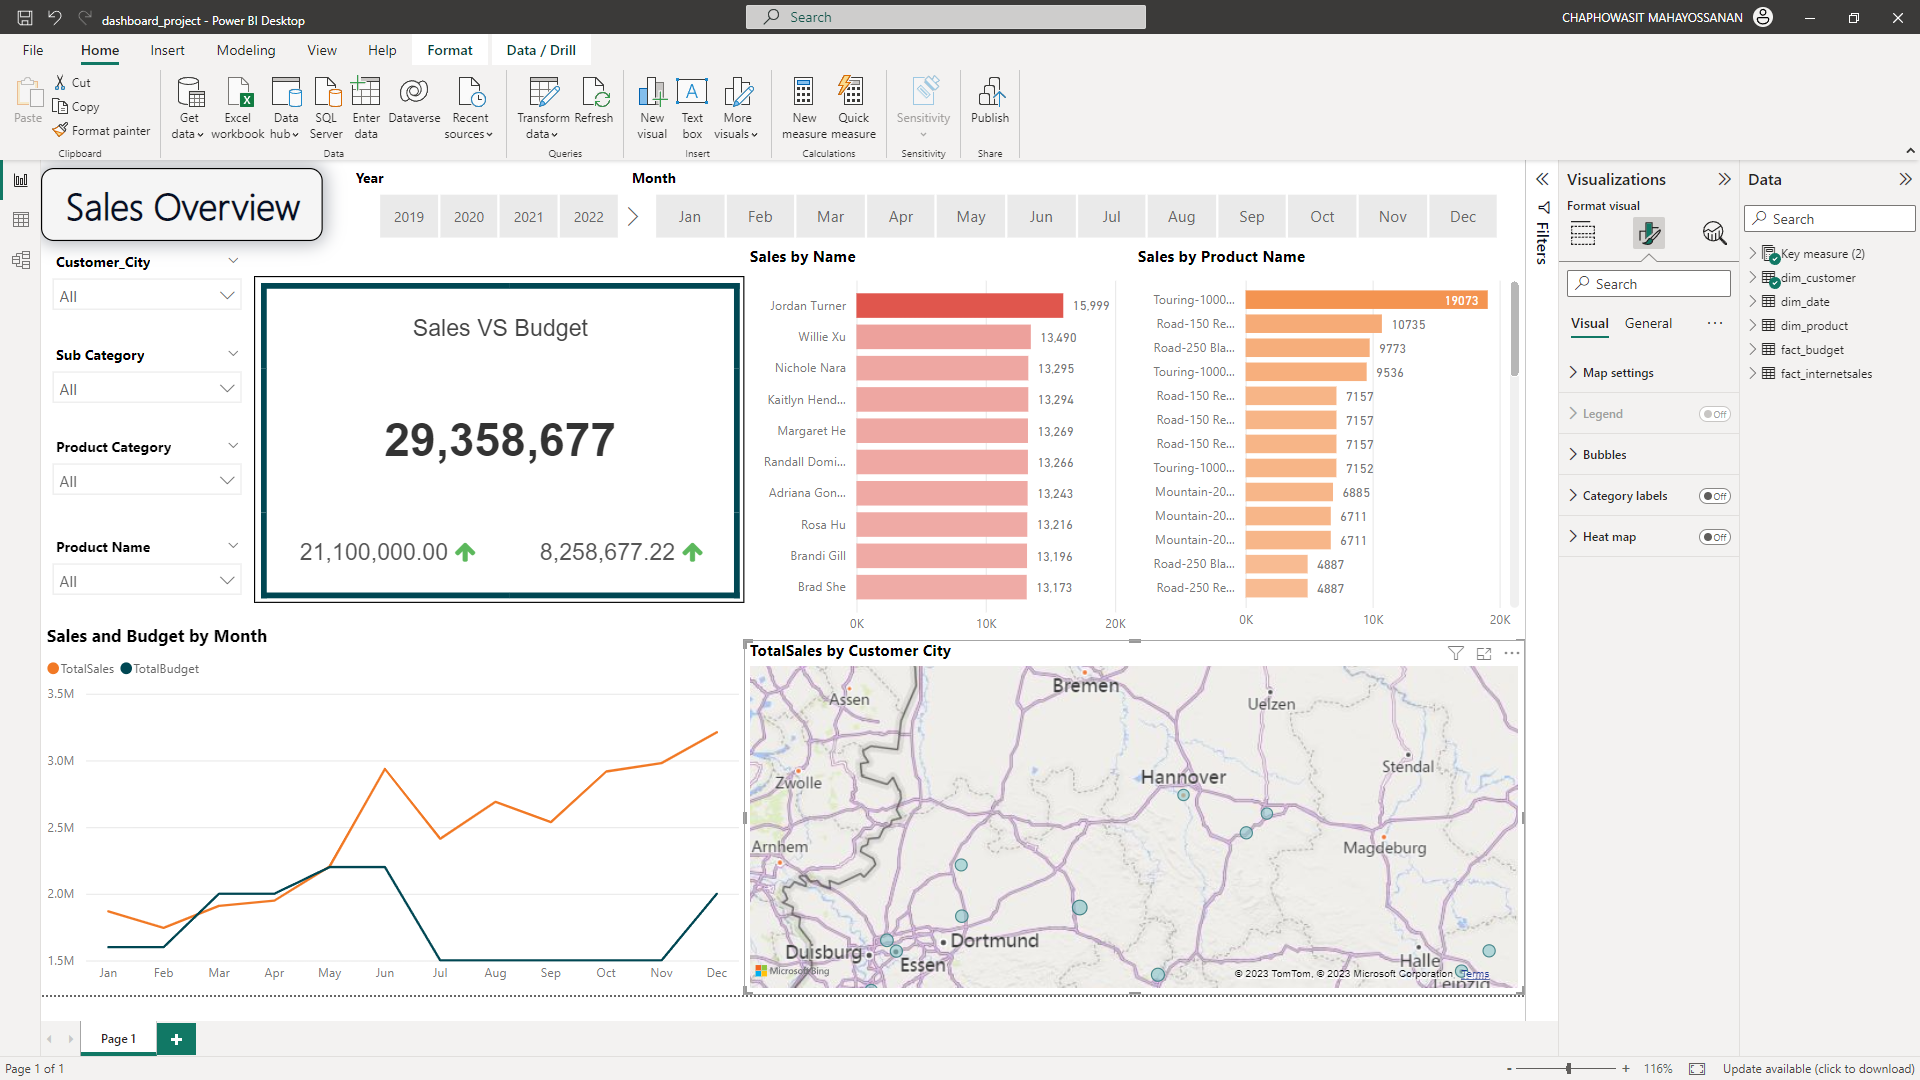

This screenshot's page, from the dashboard's own definition file:
{"tool":"powerbi","page":{"name":"Page 1","canvas":[1280,720],"ordinal":0},"visuals":[{"type":"BBED0A4D4D8D44CE93CF2DAFADEE466C","fields":{"target2":["Key measure (2).Sales-Budget"],"actual":["Key measure (2).TotalSales"],"target1":["Key measure (2).TotalBudget"]},"box":[183.4,100.1,423.4,281.6],"z":0},{"type":"textbox","box":[0,6.9,242.9,63.5],"z":1000},{"type":"slicer","title":"Year","fields":{"Values":["dim_date.Year"]},"box":[266.7,6.9,254.8,67.4],"z":2000},{"type":"slicer","title":"Month","fields":{"Values":["dim_date.MonthShort"]},"box":[504.7,6.9,775.3,67.4],"z":3000},{"type":"barChart","title":"Sales by Name","fields":{"Category":["dim_customer.FullName"],"Y":["Key measure (2).TotalSales"]},"box":[606.8,74.4,334.1,344],"z":4000},{"type":"slicer","fields":{"Values":["dim_customer.Customer_City"]},"box":[0,74.4,183.4,80.3],"z":5000},{"type":"slicer","fields":{"Values":["dim_product.Sub Category"]},"box":[0,154.7,183.4,79.3],"z":6000},{"type":"slicer","fields":{"Values":["dim_product.Product Category"]},"box":[0,234,183.4,79.3],"z":7000},{"type":"slicer","fields":{"Values":["dim_product.Product Name"]},"box":[0,320.2,183.4,79.3],"z":8000},{"type":"barChart","title":"Sales by Product Name","fields":{"Category":["dim_product.Product Name"],"Y":["Sum(fact_internetsales.SalesAmount)"]},"box":[940.9,74.4,339.1,340.1],"z":9000},{"type":"lineChart","title":"Sales and Budget by Month","fields":{"Y":["Key measure (2).TotalSales","Key measure (2).TotalBudget"],"Category":["dim_date.MonthShort"]},"box":[0,399.6,606.8,320.2],"z":10000},{"type":"map","title":"TotalSales by Customer City","fields":{"Category":["dim_customer.Customer_City"],"Size":["Key measure (2).TotalSales"]},"box":[606.8,414.4,673.2,305.4],"z":11000}]}

Visuals, with their boxes on the page's 1280x720 design canvas (x1, y1, x2, y2). These are canvas units, not pixel positions in the 1920x1080 screenshot, which may show the page scaled, cropped or inside an application window:
BBED0A4D4D8D44CE93CF2DAFADEE466C - Key measure (2).Sales-Budget x Key measure (2).TotalSales: [x1=183, y1=100, x2=607, y2=382]
textbox: [x1=0, y1=7, x2=243, y2=70]
"Year" slicer: [x1=267, y1=7, x2=522, y2=74]
"Month" slicer: [x1=505, y1=7, x2=1280, y2=74]
"Sales by Name" barChart: [x1=607, y1=74, x2=941, y2=418]
slicer - dim_customer.Customer_City: [x1=0, y1=74, x2=183, y2=155]
slicer - dim_product.Sub Category: [x1=0, y1=155, x2=183, y2=234]
slicer - dim_product.Product Category: [x1=0, y1=234, x2=183, y2=313]
slicer - dim_product.Product Name: [x1=0, y1=320, x2=183, y2=400]
"Sales by Product Name" barChart: [x1=941, y1=74, x2=1280, y2=414]
"Sales and Budget by Month" lineChart: [x1=0, y1=400, x2=607, y2=720]
"TotalSales by Customer City" map: [x1=607, y1=414, x2=1280, y2=720]
